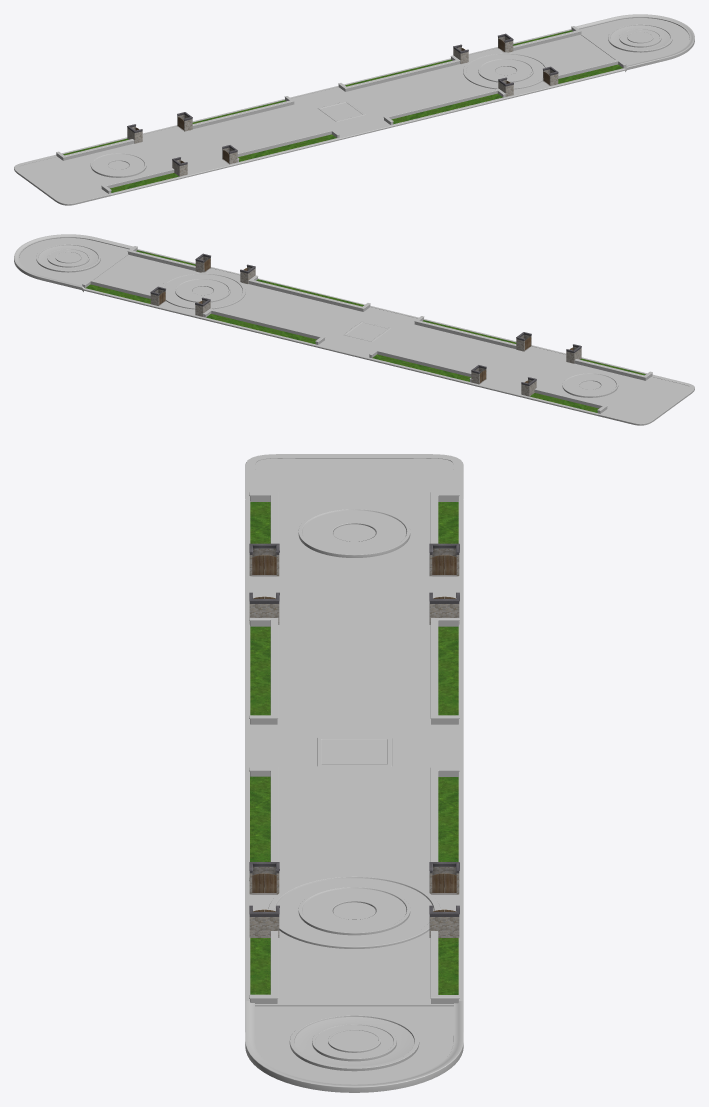
File: qtruong.fbx
The picture shows the model from 3 angles, top to bottom: view 1: azimuth 30°, elevation 25°; view 2: azimuth 150°, elevation 25°; view 3: azimuth 270°, elevation 25°; orthographic projection. The views are drawn at different scales.
Parts seen in each view (by area): view 1: Quangtruong; view 2: Quangtruong; view 3: Quangtruong.
Part boxes in pixels (x1,y1,x2,y2): Quangtruong: (14, 14, 694, 205); Quangtruong: (14, 234, 694, 425); Quangtruong: (245, 454, 463, 1092).
Size of the model in its own units: 8165 by 184 by 1186.
